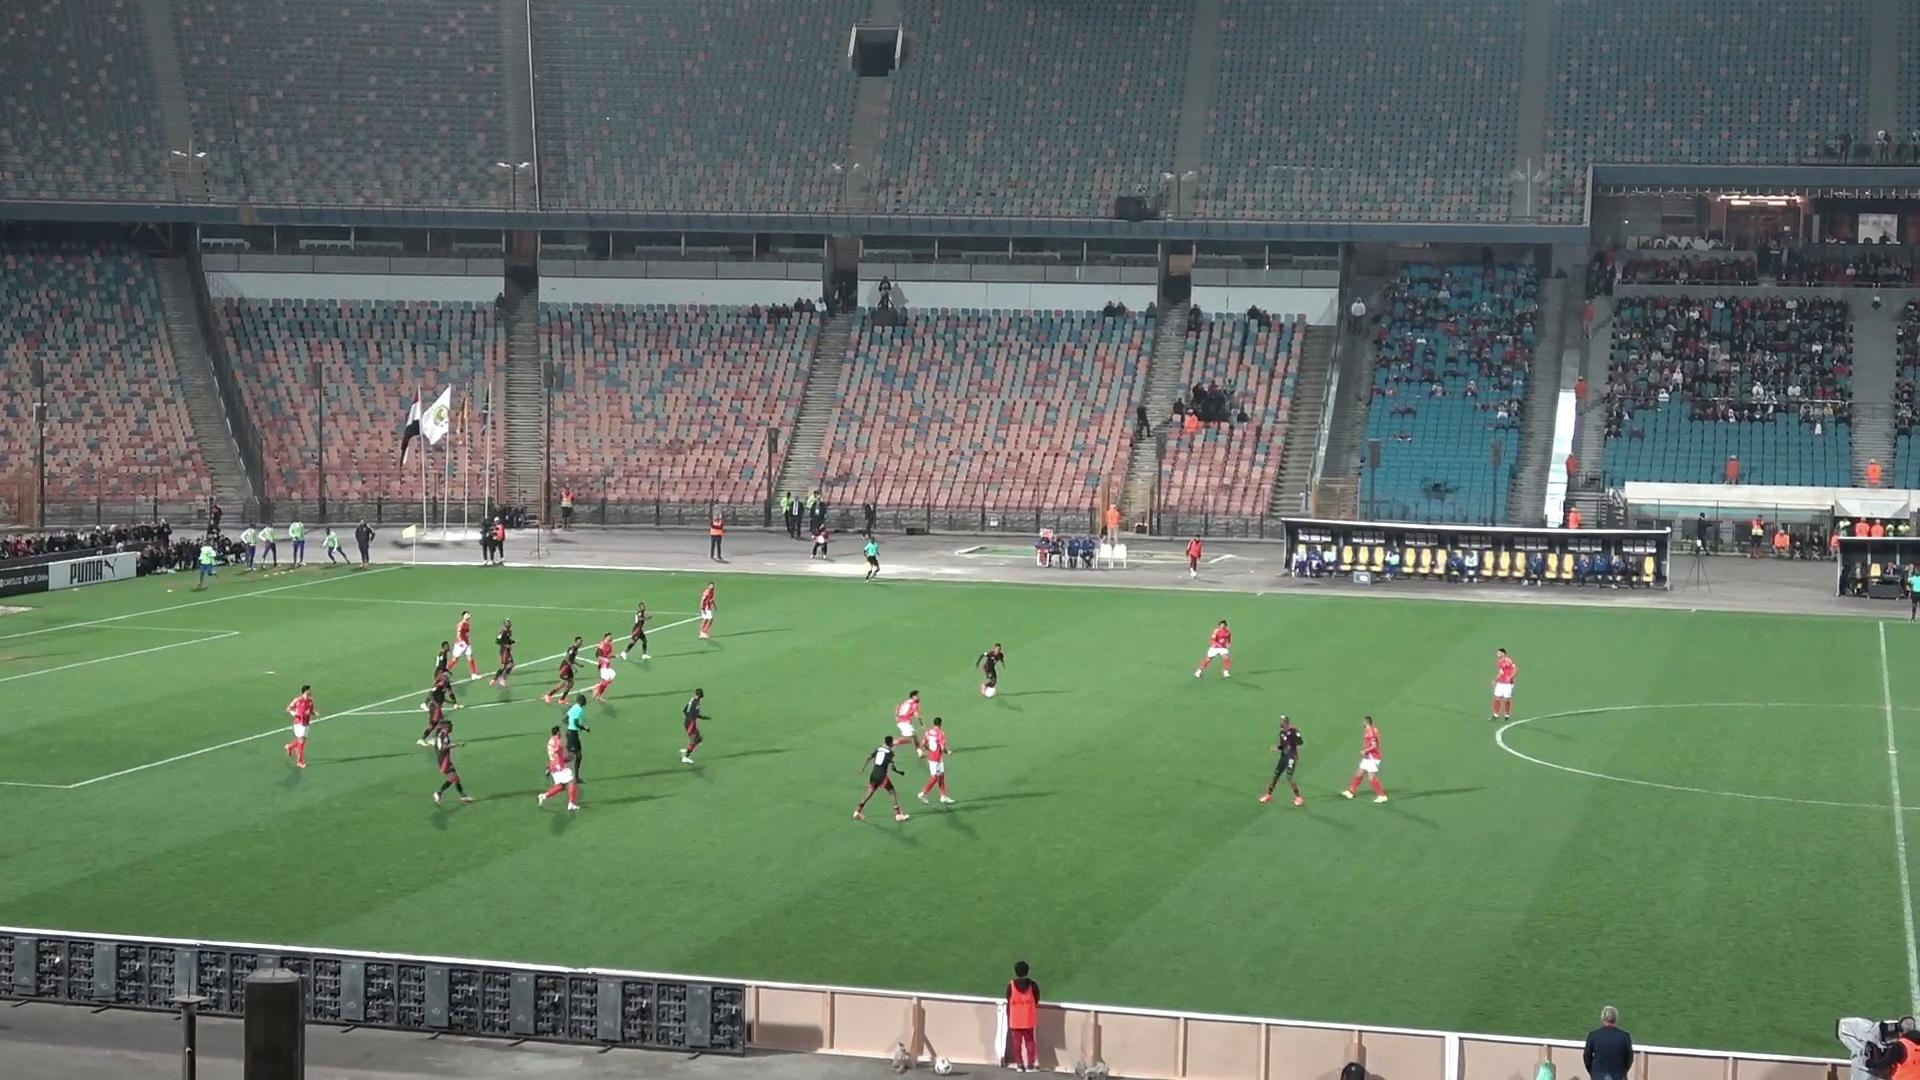Refree: (562, 692, 591, 779), (860, 531, 881, 580)
Team1: (1341, 716, 1389, 802), (537, 727, 579, 810), (916, 717, 953, 804), (285, 684, 316, 767), (579, 633, 617, 700), (1193, 618, 1232, 676), (1491, 647, 1518, 720), (446, 611, 477, 670), (891, 691, 923, 742), (698, 582, 716, 640)
Team2: (852, 736, 910, 820), (423, 716, 473, 804), (1258, 715, 1304, 806), (415, 673, 454, 744), (476, 618, 516, 687), (542, 636, 582, 703), (678, 688, 709, 764), (616, 603, 651, 659), (976, 644, 1005, 698), (433, 640, 454, 675)
